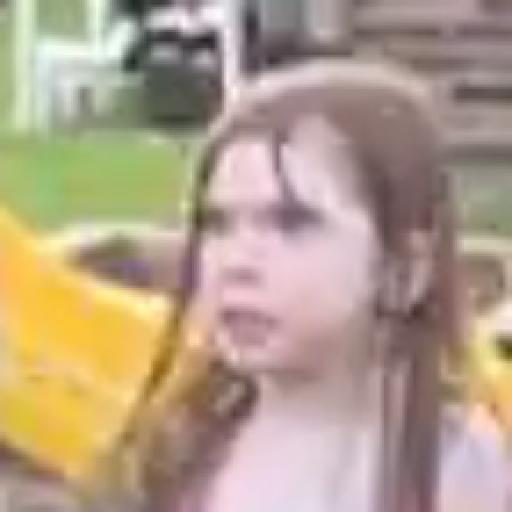Autism: (193, 6, 482, 424)
